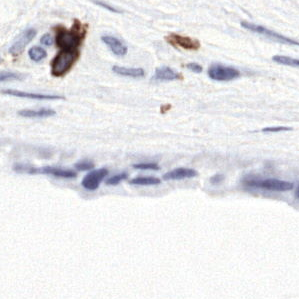Lymphocyte: (49, 20, 82, 75)
